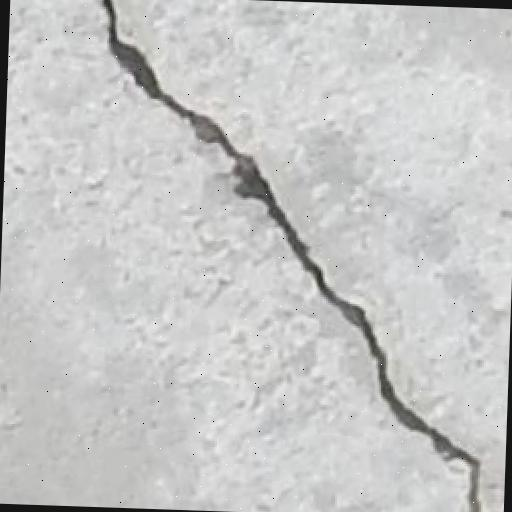spalling: (86, 0, 495, 512)
